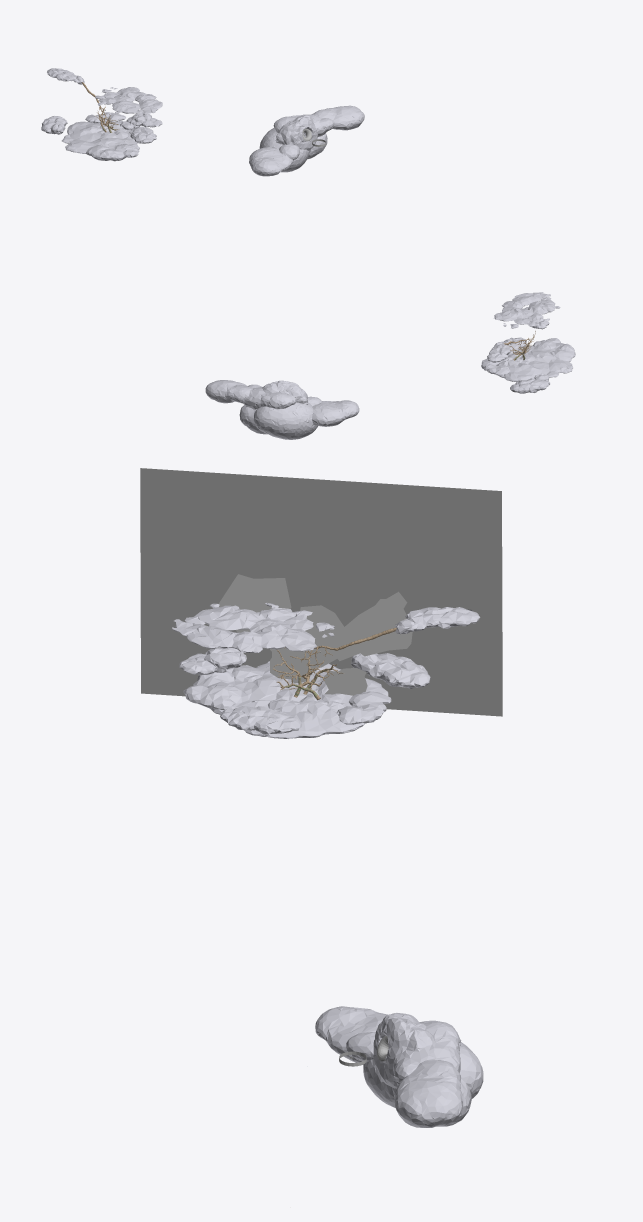
File: BstBaked.glb
3 views of the same model, one above another, from view 1: azimuth 30°, elevation 25°; view 2: azimuth 150°, elevation 25°; view 3: azimuth 270°, elevation 25° (orthographic). The views are drawn at different scales.
Parts seen in each view (by area): view 1: BstBaked_cloud, BstBaked_terrain; view 2: BstBaked_cloud; view 3: BstBaked_S31_AlmondBlossomBG, BstBaked_cloud, BstBaked_CloudCard_09, BstBaked_CloudCard_03, BstBaked_terrain, BstBaked_CloudCard_07, BstBaked_CloudCard_19.
Part boxes in pixels (<box>): BstBaked_cloud: <box>41,68,364,176</box>; BstBaked_terrain: <box>82,82,119,132</box>; BstBaked_cloud: <box>205,292,575,439</box>; BstBaked_S31_AlmondBlossomBG: <box>140,468,502,716</box>; BstBaked_cloud: <box>172,602,483,1127</box>; BstBaked_CloudCard_09: <box>355,599,412,656</box>; BstBaked_CloudCard_03: <box>218,574,291,632</box>; BstBaked_terrain: <box>272,628,396,700</box>; BstBaked_CloudCard_07: <box>270,641,320,683</box>; BstBaked_CloudCard_19: <box>322,668,367,695</box>.
Bounding box in the file's own units: 4495 × 1422 × 1222.
